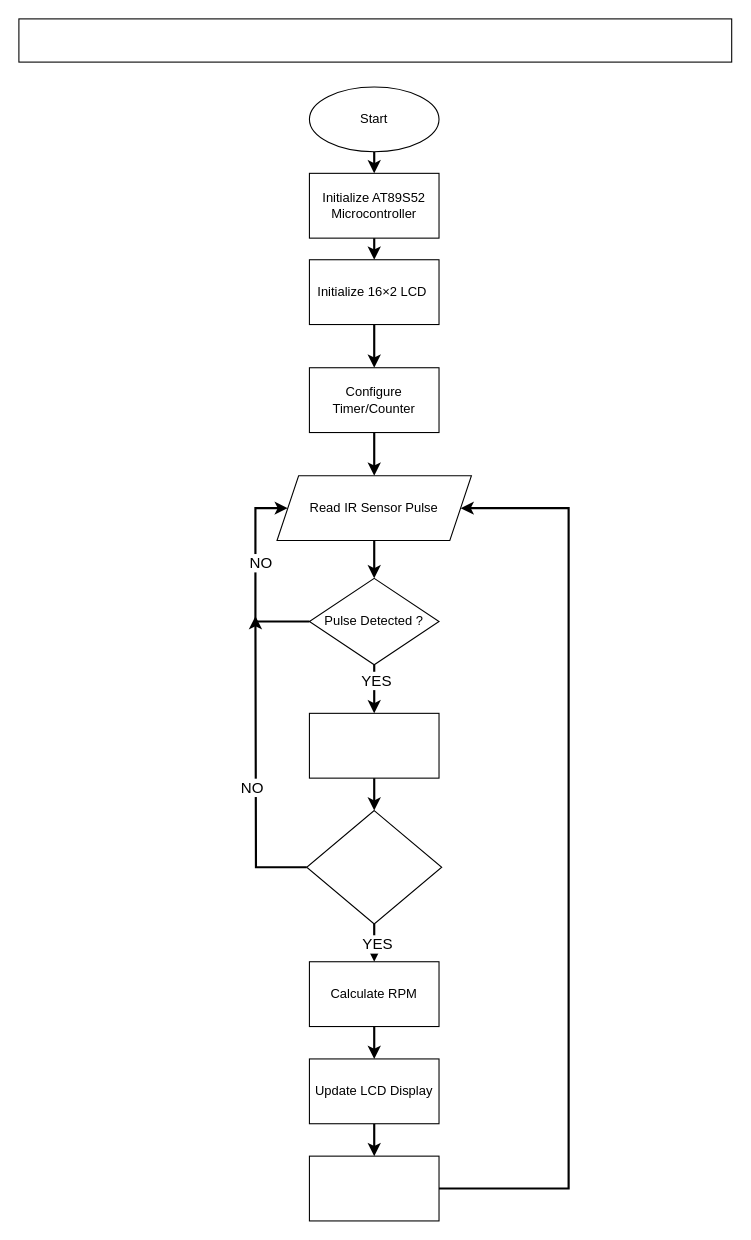
This 751x1240 diagram has some shape labels left out. Each missing label, with the centre of its shape:
"Increment Pulse Counter" goes at point 373,745.
"Reset Pulse Counter" goes at point 373,1188.
"Sampling Interval Complete?" goes at point 374,866.
"Software Flowchart of Contactless Digital Tachometer Using 8051 Microcontroller" goes at point 375,40.
